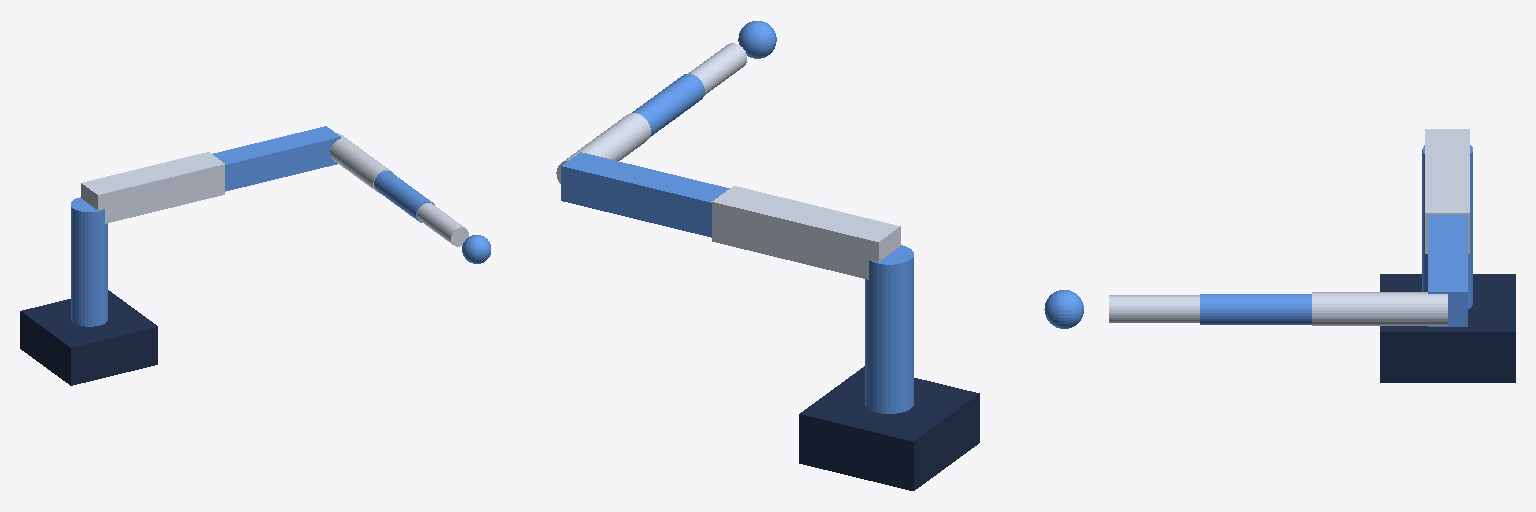
URDF robot description (simple6dof):
<?xml version="1.0"?>
<robot name="simple6dof">
  <material name="dark"><color rgba="0.18 0.24 0.36 1"/></material>
  <material name="blue"><color rgba="0.42 0.64 0.95 1"/></material>
  <material name="light"><color rgba="0.85 0.88 0.94 1"/></material>

  <link name="base_link">
    <visual>
      <origin xyz="0 0 0.05" rpy="0 0 0"/>
      <geometry><box size="0.24 0.24 0.1"/></geometry>
      <material name="dark"/>
    </visual>
  </link>

  <link name="link1">
    <visual>
      <origin xyz="0 0 0.15" rpy="0 0 0"/>
      <geometry><cylinder radius="0.045" length="0.30"/></geometry>
      <material name="blue"/>
    </visual>
  </link>
  <joint name="joint1" type="revolute">
    <parent link="base_link"/>
    <child link="link1"/>
    <origin xyz="0 0 0.10" rpy="0 0 0"/>
    <axis xyz="0 0 1"/>
    <limit lower="-3.14" upper="3.14" effort="30" velocity="2"/>
  </joint>

  <link name="link2">
    <visual>
      <origin xyz="0 0 0.175" rpy="0 0 0"/>
      <geometry><box size="0.08 0.08 0.35"/></geometry>
      <material name="light"/>
    </visual>
  </link>
  <joint name="joint2" type="revolute">
    <parent link="link1"/>
    <child link="link2"/>
    <origin xyz="0 0 0.30" rpy="0 1.57079632679 0"/>
    <axis xyz="0 0 1"/>
    <limit lower="-2.4" upper="2.4" effort="30" velocity="2"/>
  </joint>

  <link name="link3">
    <visual>
      <origin xyz="0 0 0.16" rpy="0 0 0"/>
      <geometry><box size="0.07 0.07 0.32"/></geometry>
      <material name="blue"/>
    </visual>
  </link>
  <joint name="joint3" type="revolute">
    <parent link="link2"/>
    <child link="link3"/>
    <origin xyz="0 0 0.35" rpy="0 0 0"/>
    <axis xyz="0 1 0"/>
    <limit lower="-2.4" upper="2.4" effort="30" velocity="2"/>
  </joint>

  <link name="link4">
    <visual>
      <origin xyz="0 0 0.12" rpy="0 0 0"/>
      <geometry><cylinder radius="0.03" length="0.24"/></geometry>
      <material name="light"/>
    </visual>
  </link>
  <joint name="joint4" type="revolute">
    <parent link="link3"/>
    <child link="link4"/>
    <origin xyz="0 0 0.32" rpy="1.57079632679 0 0"/>
    <axis xyz="0 0 1"/>
    <limit lower="-3.14" upper="3.14" effort="20" velocity="2"/>
  </joint>

  <link name="link5">
    <visual>
      <origin xyz="0 0 0.10" rpy="0 0 0"/>
      <geometry><cylinder radius="0.028" length="0.20"/></geometry>
      <material name="blue"/>
    </visual>
  </link>
  <joint name="joint5" type="revolute">
    <parent link="link4"/>
    <child link="link5"/>
    <origin xyz="0 0 0.24" rpy="0 0 0"/>
    <axis xyz="1 0 0"/>
    <limit lower="-3.14" upper="3.14" effort="20" velocity="2"/>
  </joint>

  <link name="link6">
    <visual>
      <origin xyz="0 0 0.08" rpy="0 0 0"/>
      <geometry><cylinder radius="0.025" length="0.16"/></geometry>
      <material name="light"/>
    </visual>
  </link>
  <joint name="joint6" type="revolute">
    <parent link="link5"/>
    <child link="link6"/>
    <origin xyz="0 0 0.20" rpy="0 0 0"/>
    <axis xyz="0 1 0"/>
    <limit lower="-3.14" upper="3.14" effort="20" velocity="2"/>
  </joint>

  <link name="tool0">
    <visual>
      <origin xyz="0 0 0.08" rpy="0 0 0"/>
      <geometry><sphere radius="0.035"/></geometry>
      <material name="blue"/>
    </visual>
  </link>
  <joint name="tool_joint" type="fixed">
    <parent link="link6"/>
    <child link="tool0"/>
    <origin xyz="0 0 0.16" rpy="0 0 0"/>
  </joint>
</robot>

--- Facts derived from the render (not from the file) ---
Views: 3 orthographic renders of the robot side by side, from view 1: azimuth 30°, elevation 25°; view 2: azimuth 150°, elevation 25°; view 3: azimuth 270°, elevation 25°.
Model simple6dof with 8 links and 7 joints (6 revolute, 1 fixed), rooted at base_link, posed all joints at 0.
Links seen in each view (by area): view 1: base_link, link2, link3, link1, link4, link5, link6, tool0; view 2: base_link, link2, link3, link1, link5, link4, link6, tool0; view 3: base_link, link4, link2, link3, link5, link6, tool0, link1.
Boxes of the visible links, box(x1,y1,x2,y2) form: base_link: box(20, 290, 157, 385); link2: box(81, 152, 224, 223); link3: box(212, 126, 340, 191); link1: box(71, 197, 107, 326); link4: box(330, 133, 393, 192); link5: box(374, 171, 434, 222); link6: box(417, 203, 468, 246); tool0: box(462, 235, 490, 263); base_link: box(799, 366, 979, 490); link2: box(712, 186, 900, 279); link3: box(561, 152, 729, 237); link1: box(865, 245, 913, 413); link5: box(632, 74, 704, 136); link4: box(556, 113, 650, 183); link6: box(688, 43, 746, 95); tool0: box(738, 21, 776, 58); base_link: box(1380, 274, 1515, 382); link4: box(1312, 292, 1447, 325); link2: box(1425, 129, 1469, 253); link3: box(1428, 215, 1467, 326); link5: box(1200, 294, 1311, 324); link6: box(1109, 295, 1199, 322); tool0: box(1044, 290, 1083, 328); link1: box(1422, 145, 1472, 308).
Size in the robot's own frame: 0.825 by 0.835 by 0.44 metres.
Geometry: primitives only (box / cylinder / sphere), no mesh files.
